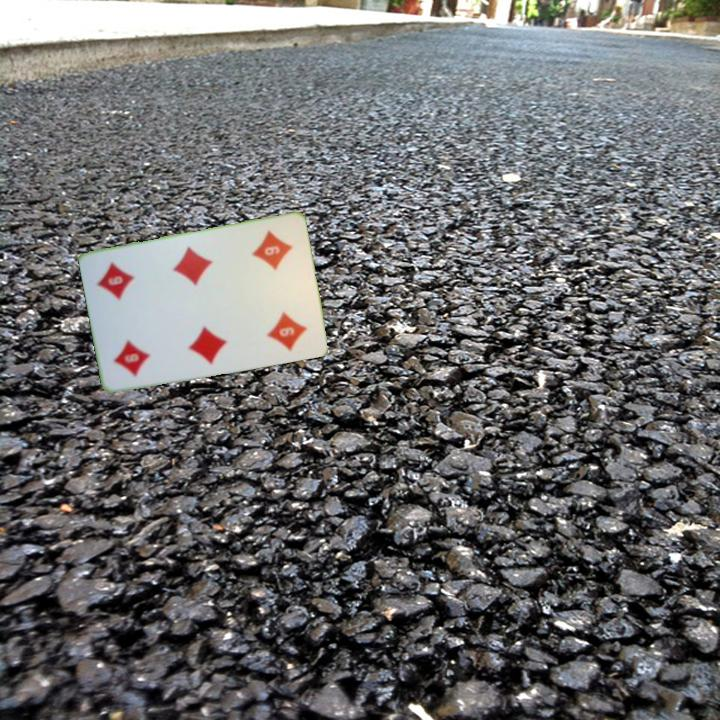d_6.png: (99, 309, 168, 385), (239, 221, 307, 297)
